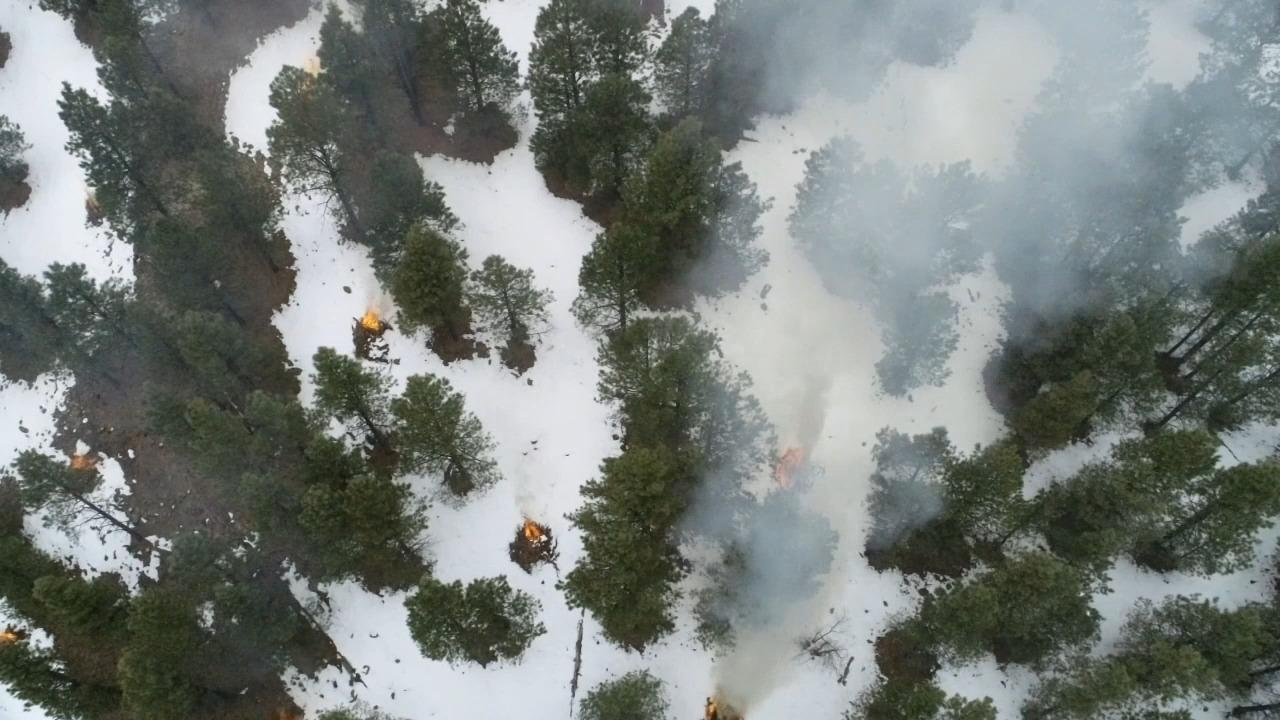fire: (771, 432, 819, 498), (518, 508, 549, 542), (357, 305, 386, 329)
smoke: (634, 0, 1247, 267), (674, 272, 1108, 546), (713, 551, 816, 644)
